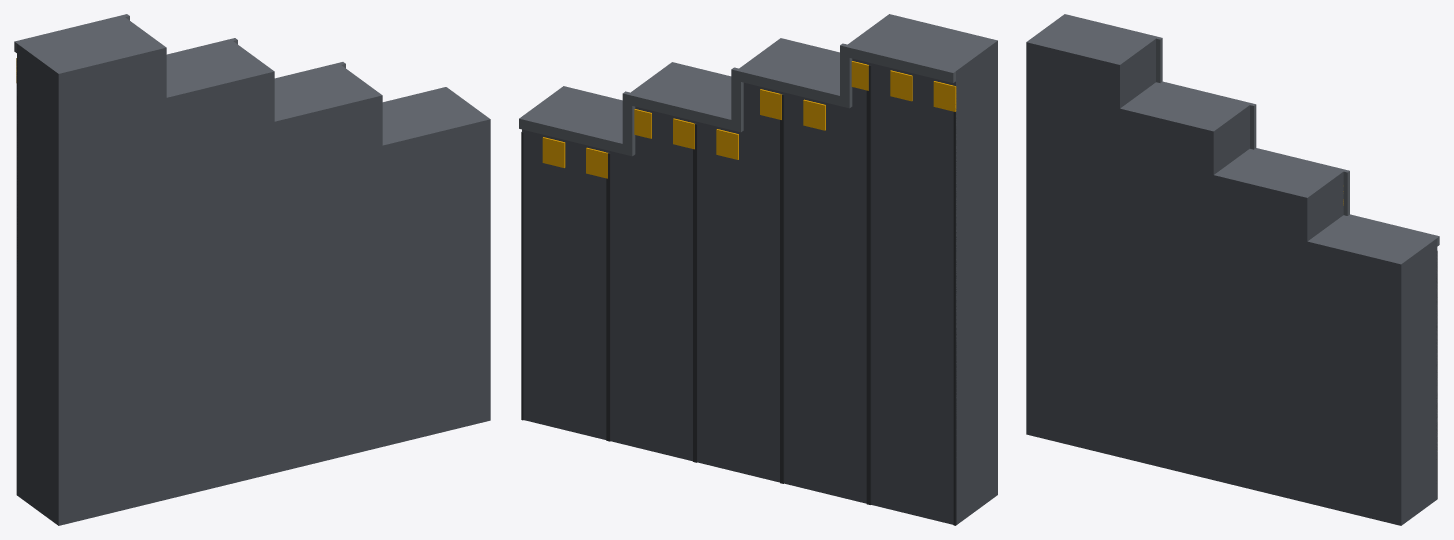
3 renders of one model, left to right at view 1: azimuth 30°, elevation 25°; view 2: azimuth 150°, elevation 25°; view 3: azimuth 330°, elevation 25°, orthographic. The views are drawn at different scales.
Parts seen in each view (by area): view 1: s1wf; view 2: s1wf; view 3: s1wf.
Part boxes in pixels (bbox=[...]): s1wf: bbox=[14, 14, 490, 525]; s1wf: bbox=[519, 14, 997, 525]; s1wf: bbox=[1026, 14, 1439, 525].
Bounding box in the file's own units: 9 × 9 × 1.6.
